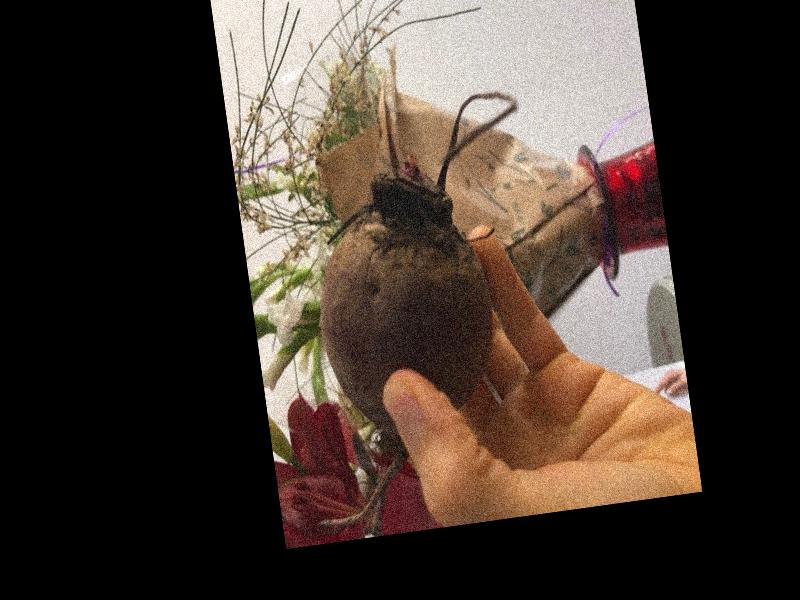Beet: (266, 87, 570, 527)
